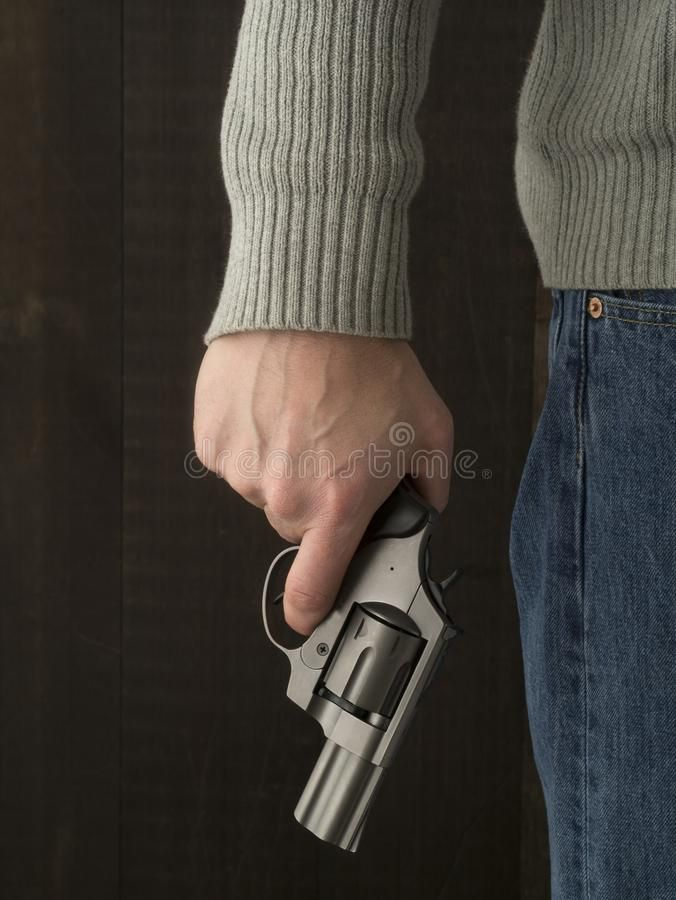gun: (238, 463, 475, 876)
